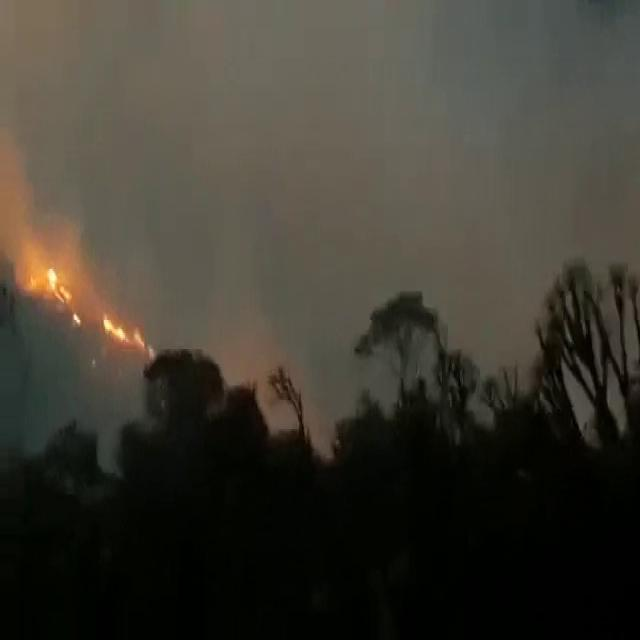Fire: (100, 313, 153, 351), (46, 254, 72, 306)
Smoke: (9, 16, 624, 440), (2, 129, 157, 355)
